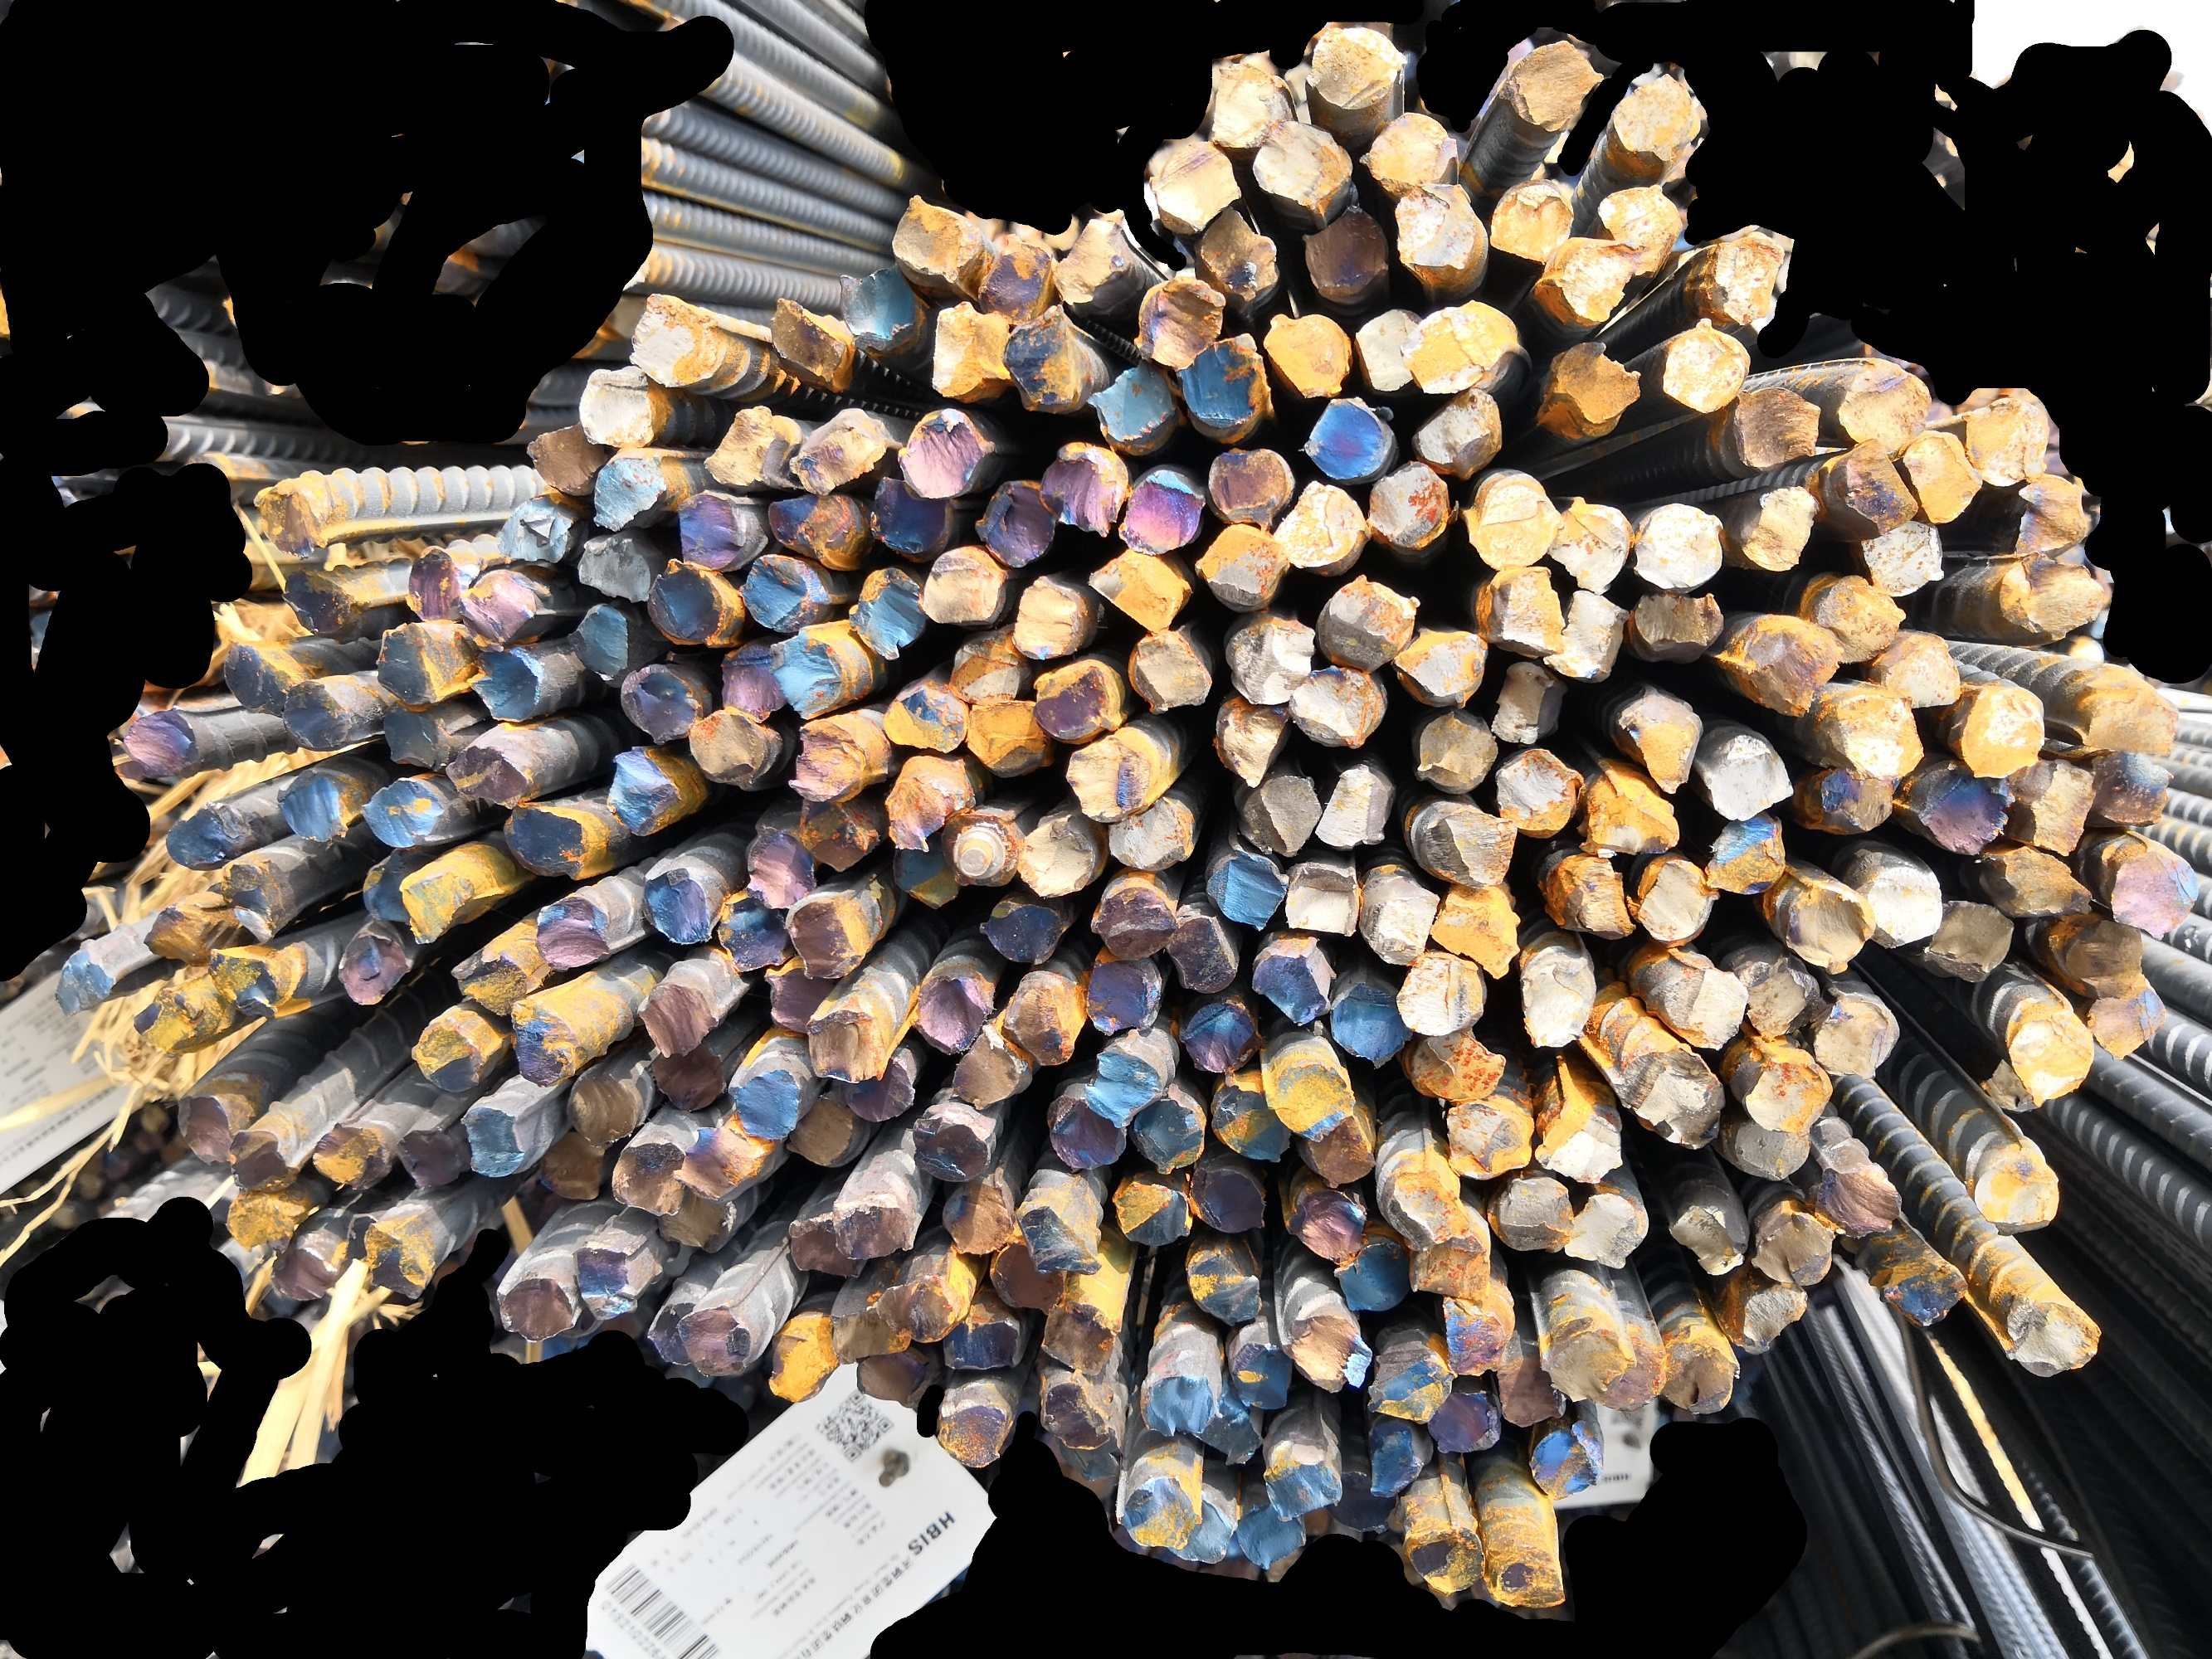rebar: (1607, 1044, 1727, 1152), (1400, 295, 1523, 396), (1811, 683, 1926, 784), (1834, 352, 1935, 455), (1738, 619, 1842, 718), (1497, 38, 1605, 134), (1992, 552, 2106, 643), (1961, 1138, 2064, 1237), (1907, 760, 2015, 854), (1994, 1290, 2104, 1382), (2069, 667, 2182, 756), (624, 291, 725, 390), (1175, 331, 1272, 434), (2099, 840, 2202, 938), (1394, 179, 1487, 288), (1429, 880, 1525, 983), (1316, 572, 1419, 667), (1537, 338, 1642, 432), (1848, 850, 1945, 950), (1082, 359, 1182, 455), (1462, 472, 1562, 568), (1632, 495, 1727, 594), (1252, 118, 1354, 211), (788, 406, 892, 497), (1658, 315, 1752, 415), (1581, 765, 1680, 859), (1783, 877, 1877, 976), (896, 408, 997, 500), (1037, 437, 1130, 538), (1001, 303, 1084, 415), (1802, 572, 1905, 662), (887, 192, 985, 286), (1612, 690, 1701, 793), (1306, 23, 1410, 110), (1084, 549, 1192, 633), (1272, 477, 1368, 572), (1607, 68, 1701, 164), (1626, 854, 1724, 946), (2006, 1006, 2097, 1105), (1958, 680, 2048, 779), (1536, 1316, 1637, 1405), (1063, 737, 1166, 824), (1133, 275, 1227, 369), (1537, 589, 1632, 683), (1147, 139, 1243, 232), (1700, 728, 1795, 821), (1959, 392, 2052, 488), (1361, 108, 1462, 195), (837, 260, 922, 362), (1299, 202, 1391, 296), (1534, 1091, 1626, 1185), (884, 755, 974, 850), (1192, 204, 1279, 303), (1551, 491, 1635, 594), (1834, 437, 1917, 540), (1492, 748, 1584, 840), (1367, 460, 1455, 556), (1595, 181, 1684, 277), (933, 298, 1011, 406), (1419, 807, 1520, 890), (671, 1114, 758, 1209), (1391, 626, 1489, 711), (1405, 387, 1504, 471), (737, 552, 840, 633), (1520, 950, 1600, 1053), (1224, 615, 1314, 706), (971, 477, 1060, 570), (1658, 965, 1750, 1054), (1813, 986, 1902, 1079), (1548, 240, 1644, 326), (2045, 917, 2144, 999), (1053, 211, 1133, 312), (1360, 866, 1440, 967), (1279, 1309, 1370, 1398), (1396, 950, 1487, 1039), (1262, 310, 1353, 399), (1731, 951, 1822, 1040), (784, 887, 870, 981), (1032, 659, 1126, 744), (1210, 694, 1295, 788), (1192, 525, 1288, 608), (1921, 899, 2017, 983), (847, 565, 929, 662), (1330, 972, 1412, 1070), (1902, 429, 1984, 526), (1119, 465, 1206, 556), (1313, 760, 1400, 850), (1489, 176, 1576, 267), (1733, 385, 1823, 472), (866, 476, 959, 561), (1299, 396, 1393, 479), (500, 803, 596, 885), (647, 556, 729, 652), (1703, 230, 1785, 326), (605, 742, 685, 840), (1290, 667, 1388, 748), (765, 491, 865, 570), (1379, 1168, 1471, 1251), (1442, 1094, 1534, 1178), (769, 626, 849, 721), (1210, 56, 1288, 153), (1236, 772, 1323, 859), (573, 364, 662, 450), (699, 403, 784, 491), (931, 1382, 1016, 1471), (1013, 1195, 1103, 1279), (1408, 709, 1499, 793), (1738, 483, 1822, 573), (1482, 568, 1565, 659), (767, 295, 849, 387), (1849, 519, 1947, 596), (1407, 1030, 1511, 1101), (687, 708, 774, 793), (263, 1225, 352, 1309), (1548, 856, 1637, 939), (1114, 1471, 1204, 1553), (1700, 812, 1790, 894), (1262, 1063, 1356, 1141), (1741, 1058, 1835, 1136), (788, 718, 873, 803), (1210, 1079, 1295, 1164), (1206, 446, 1292, 532), (1401, 1514, 1487, 1600), (950, 1025, 1034, 1112), (1128, 627, 1211, 714), (1248, 941, 1332, 1028), (2005, 474, 2092, 558), (1748, 1209, 1839, 1290), (913, 962, 992, 1054), (507, 997, 584, 1091), (1105, 796, 1199, 873), (1204, 849, 1288, 934), (1565, 1187, 1651, 1270), (333, 920, 415, 1007), (460, 565, 547, 647), (619, 664, 706, 746), (974, 232, 1053, 322), (1082, 1044, 1166, 1127), (638, 974, 720, 1060), (1877, 629, 1963, 711), (1991, 849, 2093, 917), (591, 446, 671, 533), (1485, 1175, 1572, 1255), (490, 488, 579, 566), (1089, 882, 1178, 960), (1177, 999, 1265, 1077), (1490, 659, 1569, 748), (1011, 570, 1088, 660), (1811, 1164, 1902, 1241), (444, 739, 544, 809), (223, 1182, 316, 1256), (2022, 760, 2095, 854), (976, 897, 1072, 969), (281, 565, 366, 645), (465, 645, 551, 725), (676, 1298, 757, 1384), (922, 547, 1008, 627), (1527, 1417, 1607, 1502), (359, 774, 446, 852), (2088, 751, 2175, 829), (309, 1117, 397, 1194), (251, 474, 328, 563), (743, 821, 819, 910), (448, 946, 540, 1019), (769, 1309, 840, 1403), (533, 892, 615, 974), (275, 763, 356, 847), (1665, 1199, 1748, 1279), (120, 706, 206, 784), (397, 863, 476, 948), (1279, 1183, 1365, 1262), (492, 1270, 579, 1347), (1020, 812, 1096, 899), (1367, 1349, 1454, 1425), (1039, 1298, 1121, 1378), (1297, 1108, 1377, 1190), (1436, 1295, 1517, 1377), (2088, 979, 2168, 1061), (725, 1063, 804, 1147), (1128, 1091, 1206, 1175), (1632, 592, 1726, 662), (207, 946, 293, 1023), (1354, 307, 1429, 394), (218, 854, 286, 950), (716, 885, 790, 974), (1002, 979, 1075, 1068), (1804, 765, 1893, 838), (1720, 1112, 1813, 1182), (129, 981, 211, 1060), (654, 1180, 736, 1258), (805, 1006, 887, 1084), (795, 795, 879, 871), (1260, 1446, 1344, 1523), (882, 678, 967, 753), (1408, 1232, 1496, 1305), (1879, 1262, 1970, 1331), (525, 420, 605, 498), (608, 1140, 689, 1218), (784, 1208, 865, 1286), (1048, 1093, 1128, 1171), (1184, 1248, 1264, 1326), (563, 1066, 640, 1148), (1166, 913, 1243, 995), (641, 864, 715, 950), (873, 1274, 960, 1345), (173, 1082, 242, 1171), (404, 1019, 485, 1096), (938, 1178, 1014, 1258), (1088, 957, 1164, 1037), (1285, 861, 1361, 941), (220, 636, 295, 718), (162, 798, 244, 873), (572, 532, 655, 605), (373, 620, 439, 713), (941, 812, 1020, 889), (967, 699, 1046, 775), (1328, 1241, 1410, 1314), (361, 1220, 432, 1304), (675, 488, 746, 572), (718, 638, 790, 721), (1109, 1176, 1192, 1248), (563, 603, 633, 688), (1665, 1340, 1741, 1417), (225, 1124, 303, 1199), (987, 1239, 1065, 1314), (380, 701, 460, 774), (891, 829, 964, 910), (1727, 1281, 1809, 1352), (397, 540, 467, 624), (912, 1112, 995, 1182), (830, 1194, 915, 1262), (941, 1307, 1028, 1373), (760, 960, 837, 1035), (282, 674, 354, 755), (570, 1239, 638, 1323), (784, 1094, 859, 1169), (1037, 1375, 1110, 1452), (648, 1042, 727, 1114), (1163, 1492, 1241, 1563), (458, 1100, 526, 1182), (532, 1129, 607, 1202), (840, 1051, 915, 1124), (1365, 1420, 1435, 1499), (1140, 1370, 1220, 1438), (1187, 1166, 1267, 1234), (1236, 1500, 1311, 1572), (1595, 1337, 1666, 1412), (139, 897, 211, 969), (1429, 1382, 1501, 1453), (826, 1304, 910, 1364), (1325, 1466, 1398, 1535), (1496, 1354, 1564, 1429), (1487, 1551, 1567, 1614), (851, 1340, 933, 1401), (1194, 1394, 1264, 1466), (1229, 1337, 1295, 1412), (396, 1124, 464, 1195), (948, 636, 1020, 702), (51, 945, 115, 1018), (359, 849, 415, 929), (645, 1295, 699, 1373), (1982, 1056, 2053, 1115)
